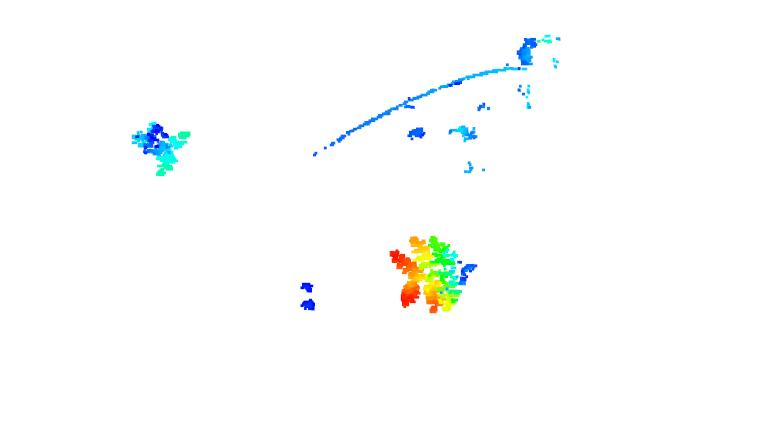chickpea: (389, 234, 478, 316), (128, 119, 191, 178)
